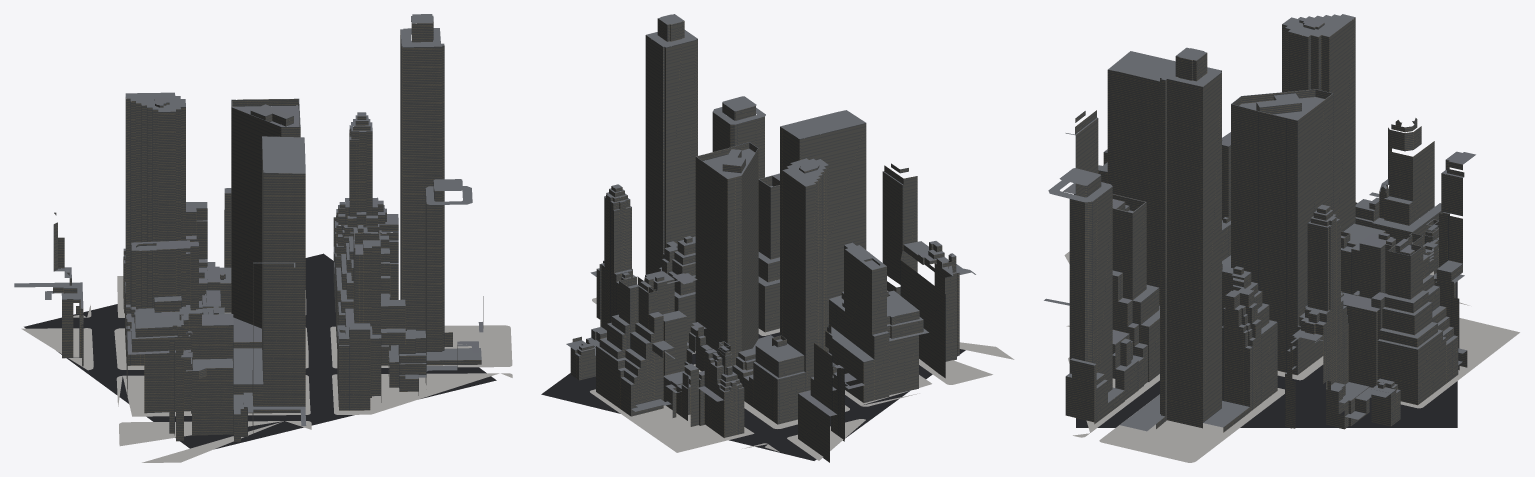
3 views of the same model, side by side, from view 1: azimuth 30°, elevation 25°; view 2: azimuth 150°, elevation 25°; view 3: azimuth 270°, elevation 25° (orthographic). The views are drawn at different scales.
Parts seen in each view (by area): view 1: t7_3, detail; view 2: t7_3, detail; view 3: t7_3, detail.
Part boxes in pixels (left/top/right/bottom): t7_3: left=14, top=14, right=496, bottom=449; detail: left=21, top=276, right=512, bottom=462; t7_3: left=541, top=14, right=975, bottom=462; detail: left=590, top=297, right=1014, bottom=460; t7_3: left=1044, top=14, right=1475, bottom=432; detail: left=1064, top=251, right=1519, bottom=462.
Size of the model in its own units: 347 by 268 by 312.
4 materials, 2 textured.
